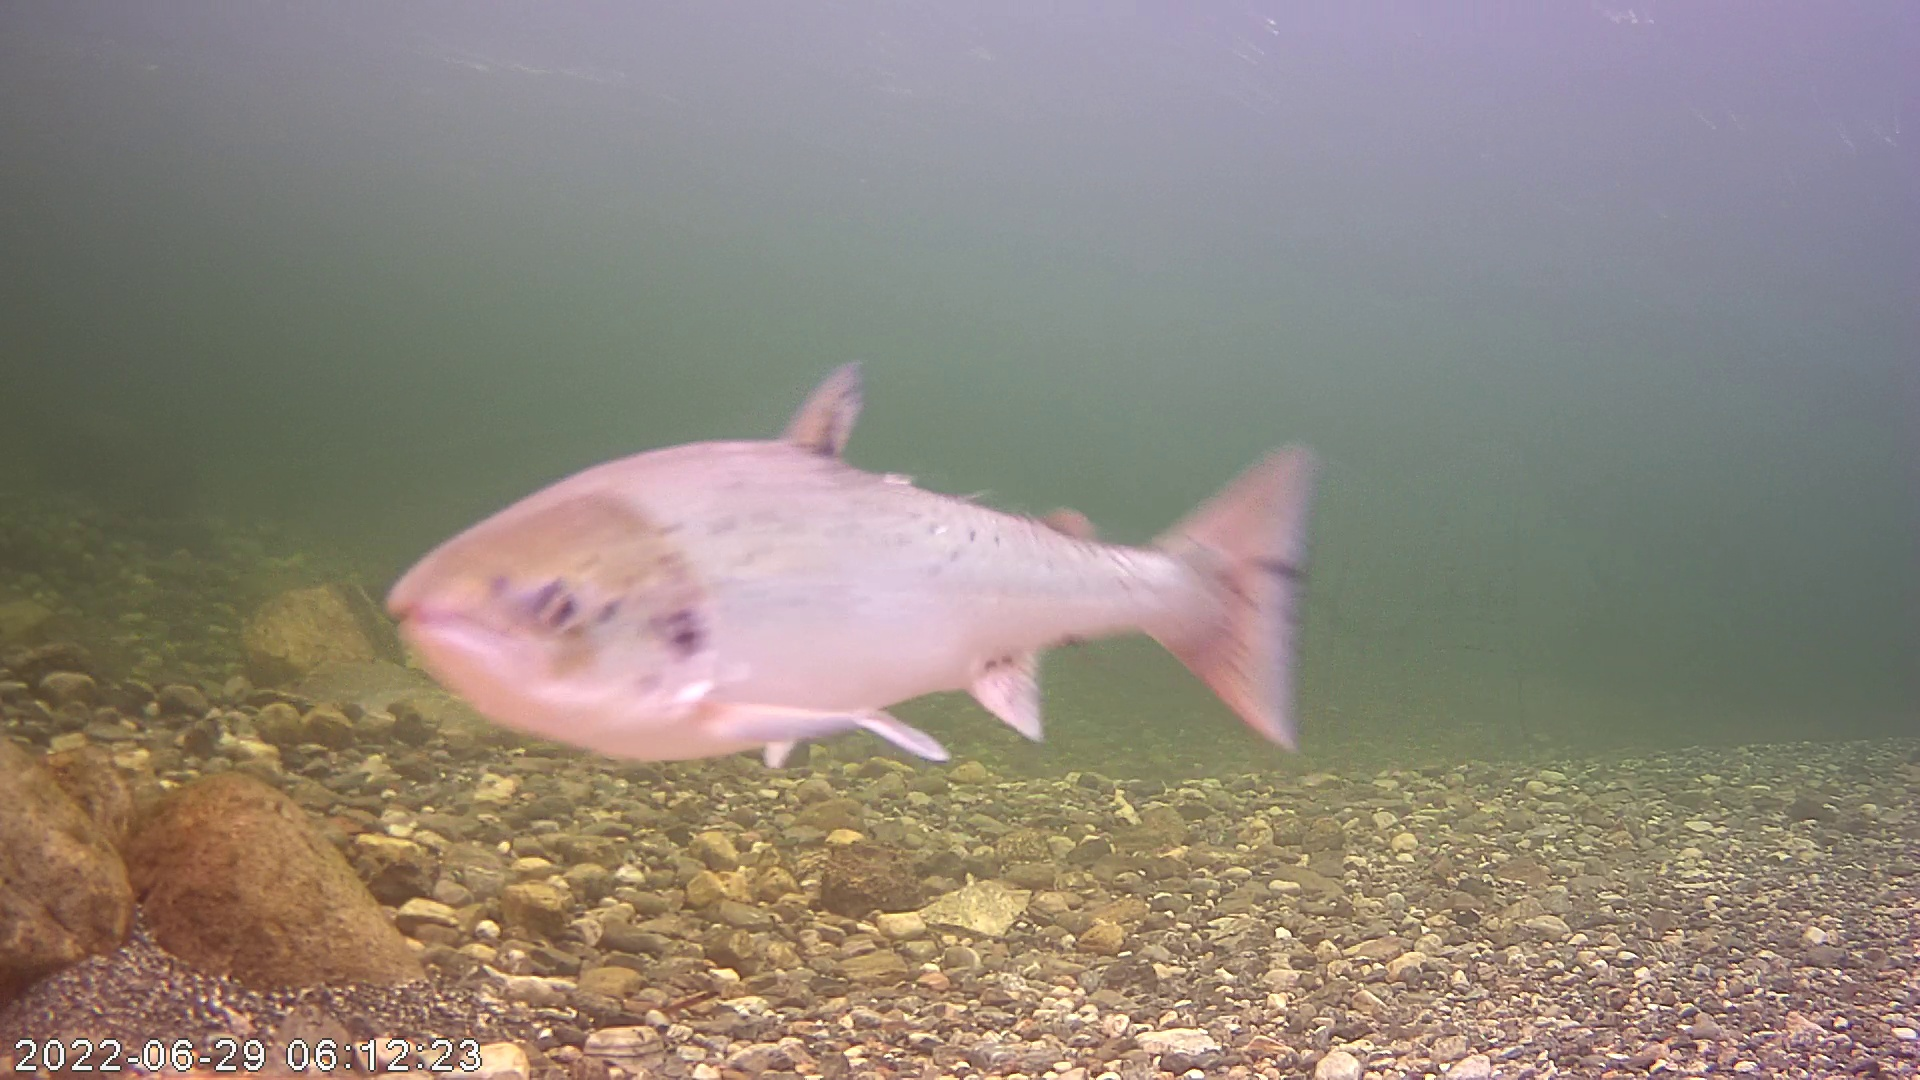salmon: (360, 315, 1325, 793)
